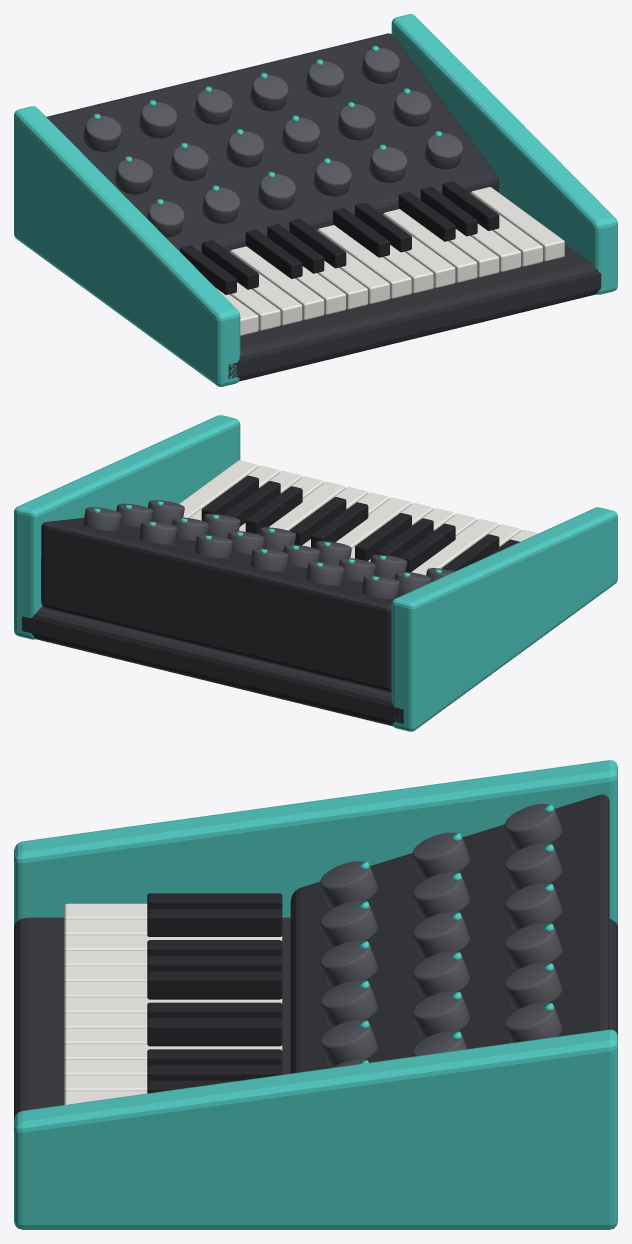
File: Undertow.glb
3 views of the same model, one above another, from view 1: azimuth 30°, elevation 25°; view 2: azimuth 150°, elevation 25°; view 3: azimuth 270°, elevation 25° (orthographic). The views are drawn at different scales.
Parts seen in each view (by area): view 1: Undertow_Panel, Undertow_CheekL, Undertow_Base, Undertow_CheekR, Undertow_W14, Undertow_W3, Undertow_W10, Undertow_W7, Undertow_B3, Undertow_B10, Undertow_B7, Undertow_B5 (+35 smaller); view 2: Undertow_Panel, Undertow_CheekL, Undertow_CheekR, Undertow_Base, Undertow_W14, Undertow_W3, Undertow_B10, Undertow_W7, Undertow_W10, Undertow_B3, Undertow_B5, Undertow_B7 (+24 smaller); view 3: Undertow_CheekR, Undertow_CheekL, Undertow_Panel, Undertow_Base, Undertow_B5, Undertow_B8, Undertow_B1, Undertow_B4, Undertow_B0, Undertow_B7, Undertow_B10, Undertow_B3 (+32 smaller).
Part boxes in pixels (<box>): Undertow_Panel: <box>46,33,498,252</box>; Undertow_CheekL: <box>14,106,240,386</box>; Undertow_Base: <box>228,244,601,381</box>; Undertow_CheekR: <box>391,14,617,294</box>; Undertow_W14: <box>471,187,564,261</box>; Undertow_W3: <box>230,246,324,319</box>; Undertow_W10: <box>383,209,477,282</box>; Undertow_W7: <box>317,225,411,298</box>; Undertow_B3: <box>245,229,302,278</box>; Undertow_B10: <box>398,192,455,241</box>; Undertow_B7: <box>333,208,389,257</box>; Undertow_B5: <box>289,218,346,268</box>; Undertow_Panel: <box>41,518,405,691</box>; Undertow_CheekL: <box>391,507,617,731</box>; Undertow_CheekR: <box>14,415,240,639</box>; Undertow_Base: <box>22,606,403,726</box>; Undertow_W14: <box>179,460,258,517</box>; Undertow_W3: <box>411,519,499,575</box>; Undertow_B10: <box>245,486,302,534</box>; Undertow_W7: <box>336,497,411,547</box>; Undertow_W10: <box>259,481,345,534</box>; Undertow_B3: <box>398,523,455,572</box>; Undertow_B5: <box>355,513,411,561</box>; Undertow_B7: <box>311,502,368,548</box>; Undertow_CheekR: <box>14,1029,617,1229</box>; Undertow_CheekL: <box>14,760,617,925</box>; Undertow_Panel: <box>290,794,609,1073</box>; Undertow_Base: <box>14,917,617,1119</box>; Undertow_B5: <box>147,971,282,999</box>; Undertow_B8: <box>147,1018,282,1046</box>; Undertow_B1: <box>147,909,282,936</box>; Undertow_B4: <box>147,955,282,972</box>; Undertow_B0: <box>147,893,282,910</box>; Undertow_B7: <box>147,1002,282,1019</box>; Undertow_B10: <box>147,1049,282,1066</box>; Undertow_B3: <box>147,940,282,956</box>.
Size of the model in its own units: 0.404 by 0.1242 by 0.36.
